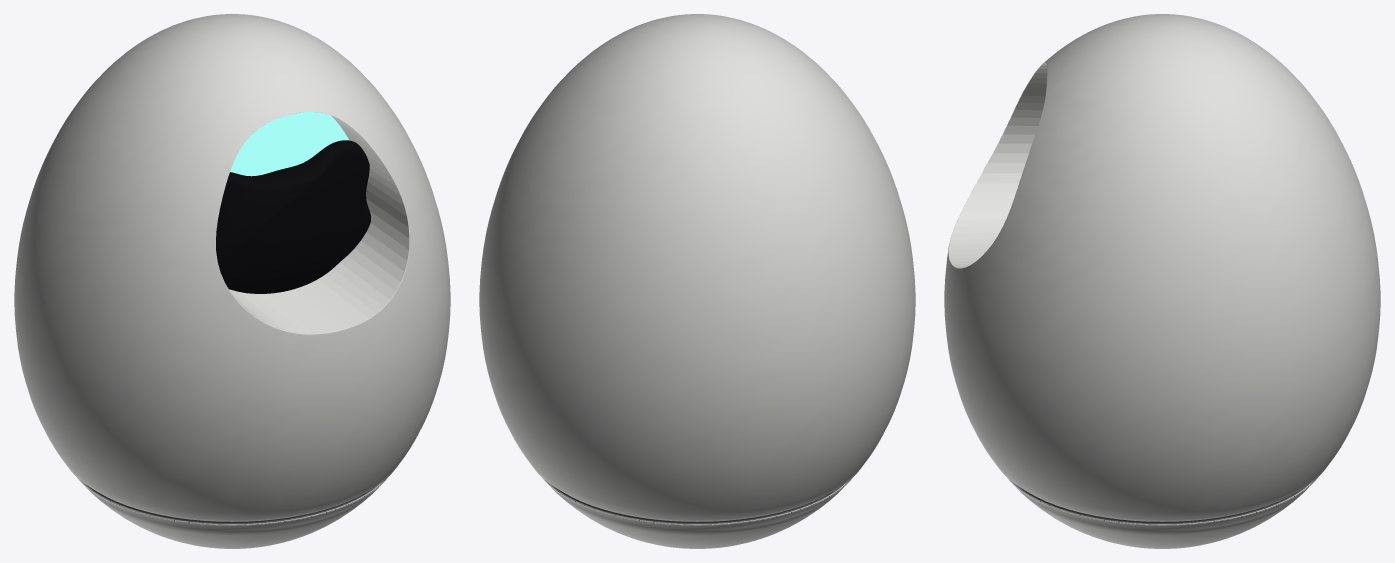
Rendered from pod.glb.
The picture shows the model from 3 angles, left to right: view 1: azimuth 30°, elevation 25°; view 2: azimuth 150°, elevation 25°; view 3: azimuth 270°, elevation 25°; orthographic projection.
Parts seen in each view (by area): view 1: pod_shell, pod_visor; view 2: pod_shell; view 3: pod_shell.
Part boxes in pixels (x1,y1,x2,y2): pod_shell: (14, 14, 450, 548); pod_visor: (216, 140, 370, 293); pod_shell: (479, 14, 915, 548); pod_shell: (944, 14, 1380, 548).
Bounding box in the file's own units: 1.5 × 1.9 × 1.5.
